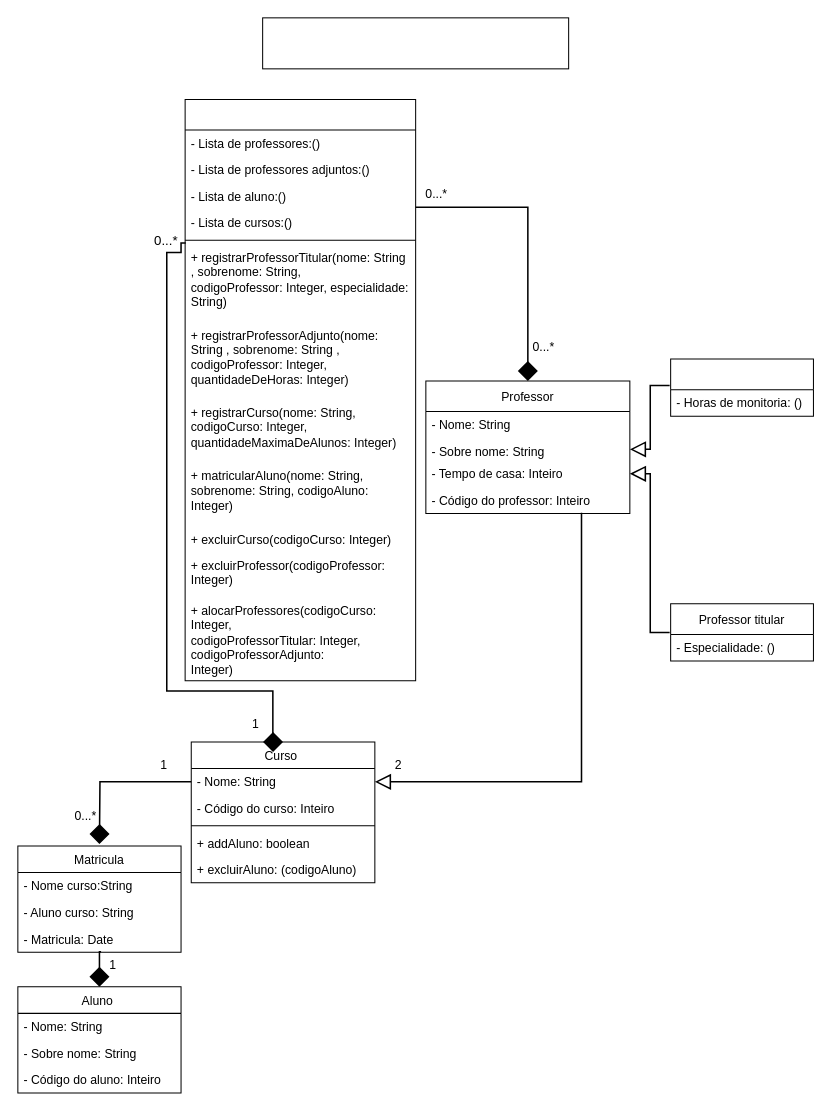
Some shapes in this 831 by 1114 pixel diagram are drawn without their labels. Here are the shapes that lost their labels. From the top down, the box of each, then its label:
(262, 17, 569, 69): Desafio - Kotlin Diagrama de classes em UML
(184, 98, 416, 681): DigitalHouseManager
(670, 358, 813, 416): Professor adjunto
